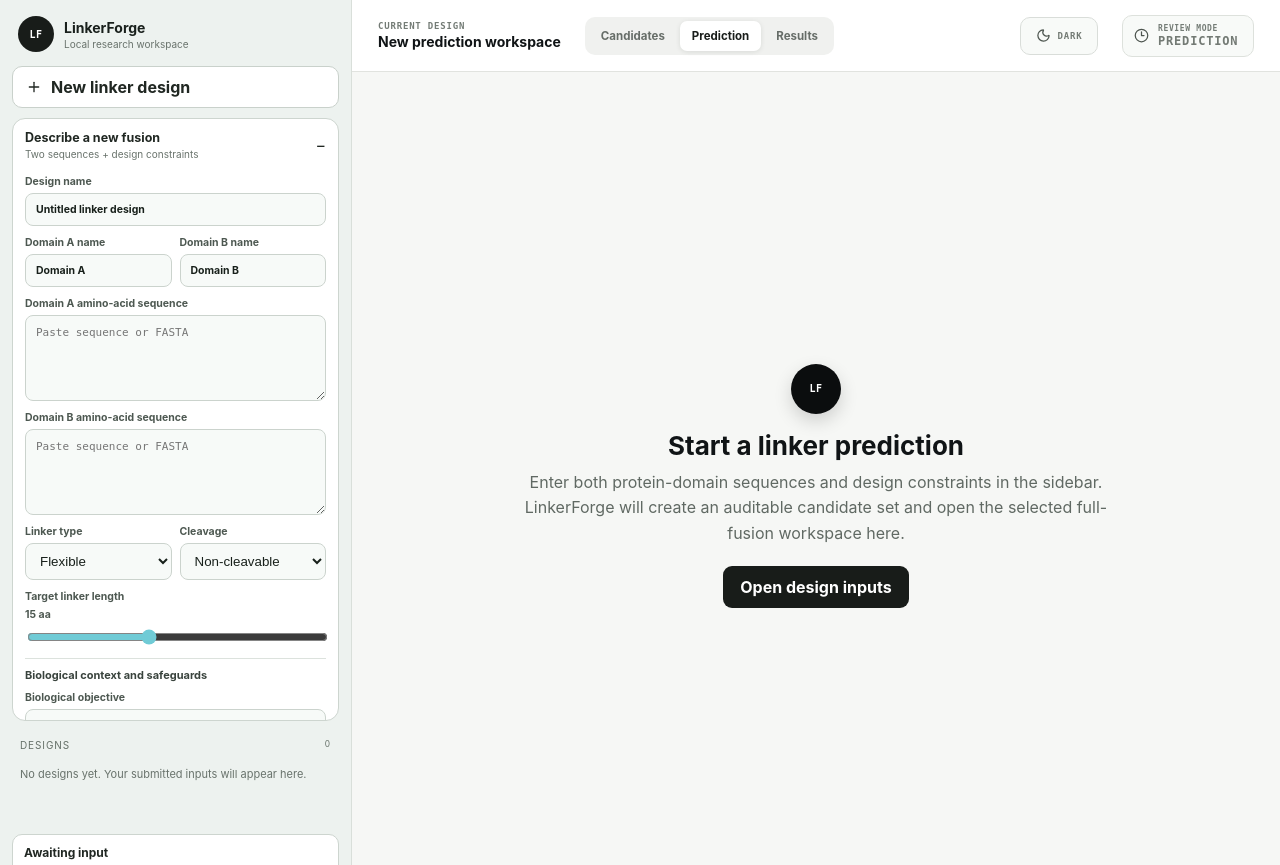
LinkerForge interface › keeps the labelled preset action in the Candidates view
Expected: the button "load labelled preset example" is not shown
Click the button "Candidates" at {"x": 633, "y": 36}, box [589,20,677,50]
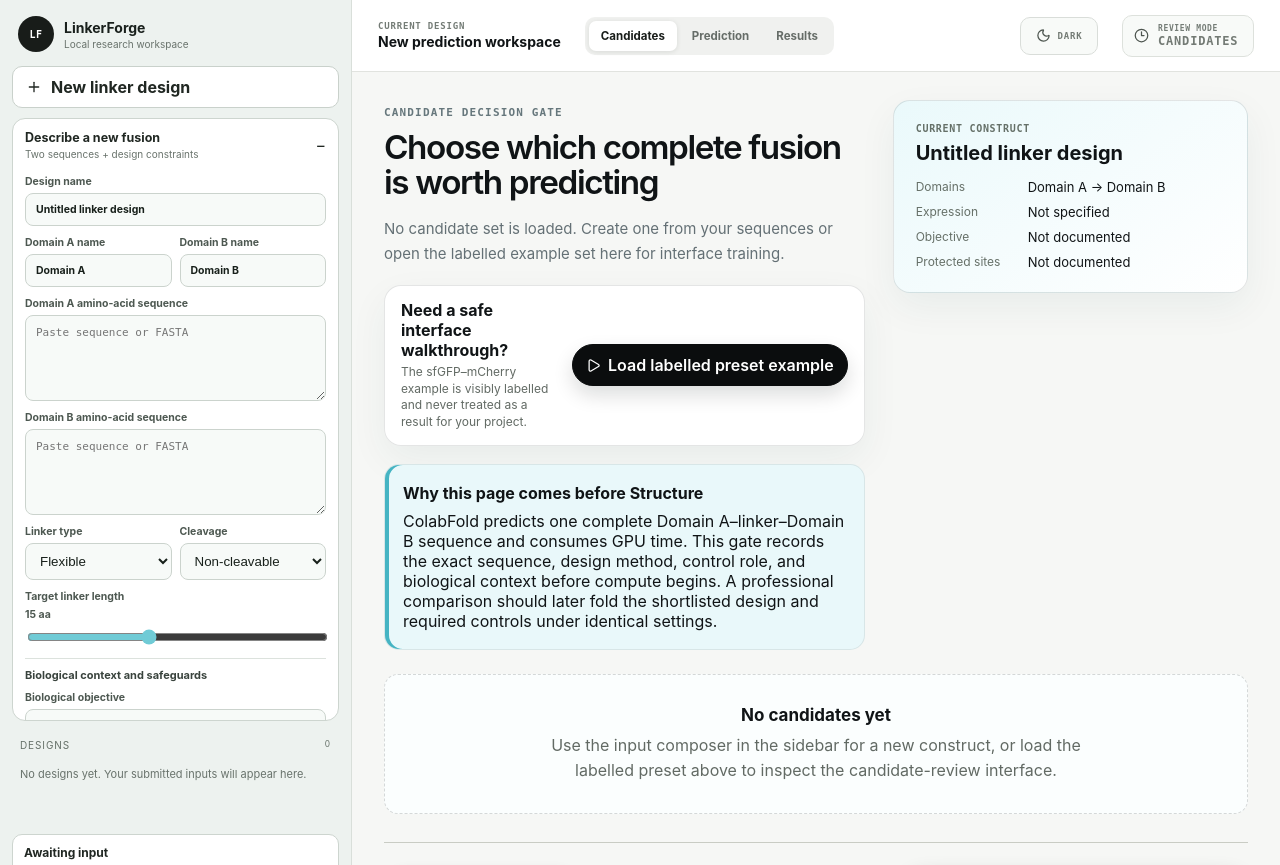
Expected: the button "Load labelled preset example" is shown, [572,344,848,386]
